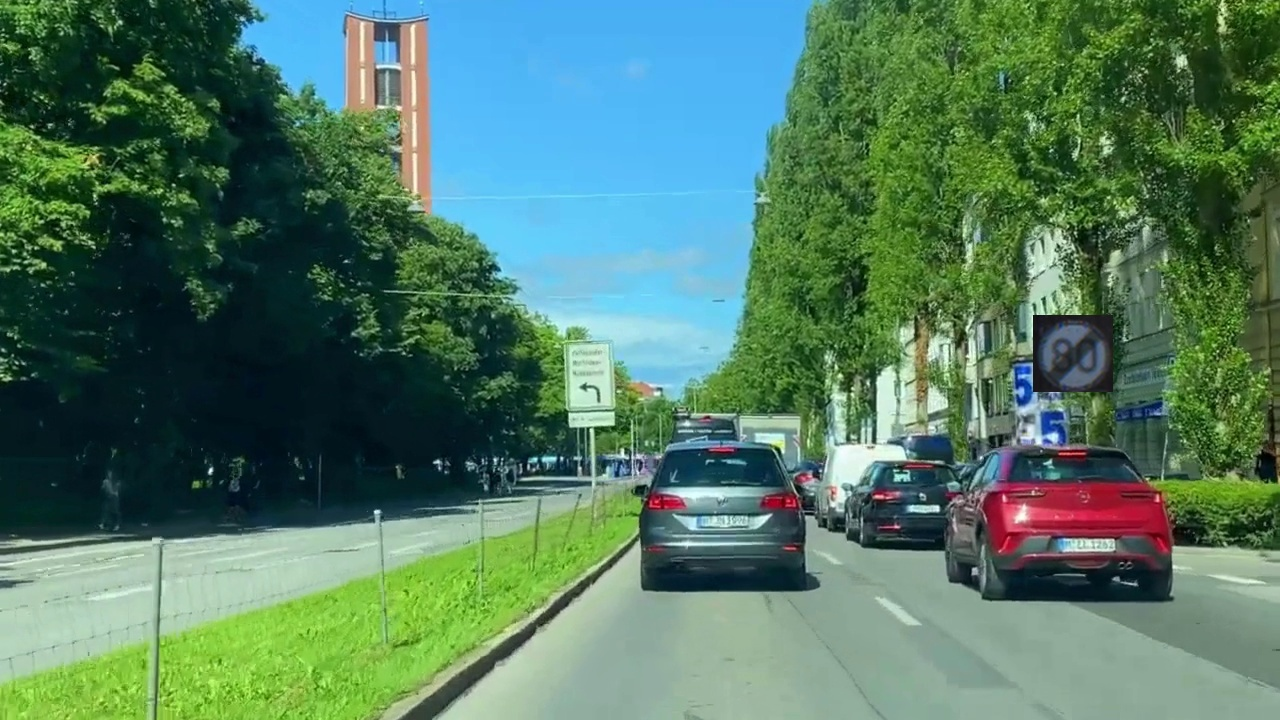End Speed 80: (1033, 315, 1113, 392)
